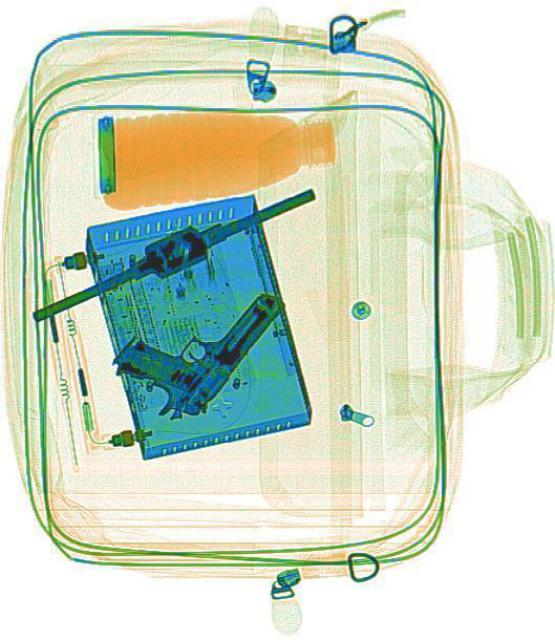Gun: (103, 235, 286, 435)
